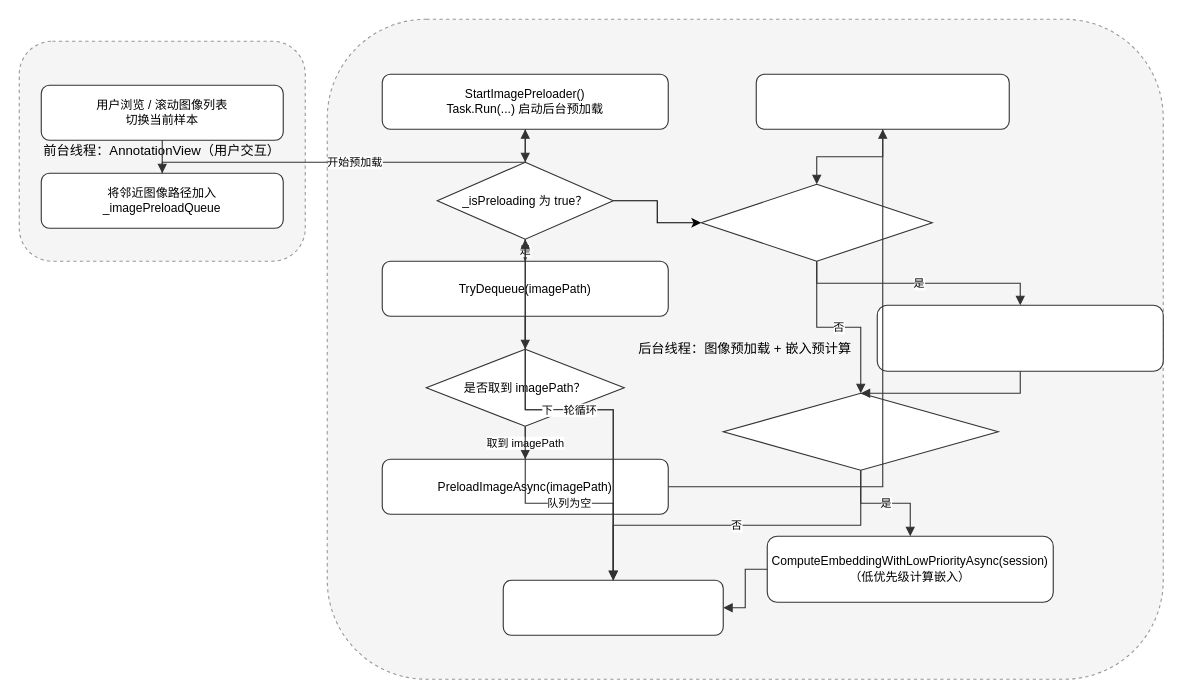
Image size: 1183x699. Some labels were removed from this diagram. Each missing label, with the box of its shape:
!session.IsEmbeddingComputed && !session.IsEmbeddingComputing？: (722, 392, 998, 470)
session = GetOrCreateSession(imagePath): (755, 73, 1009, 129)
session.OriginalImage == null？: (700, 183, 932, 261)
Task.Delay(100ms): (502, 579, 723, 635)
读盘加载图像： session.OriginalImage = Cv2.ImRead(imagePath): (876, 304, 1163, 371)
